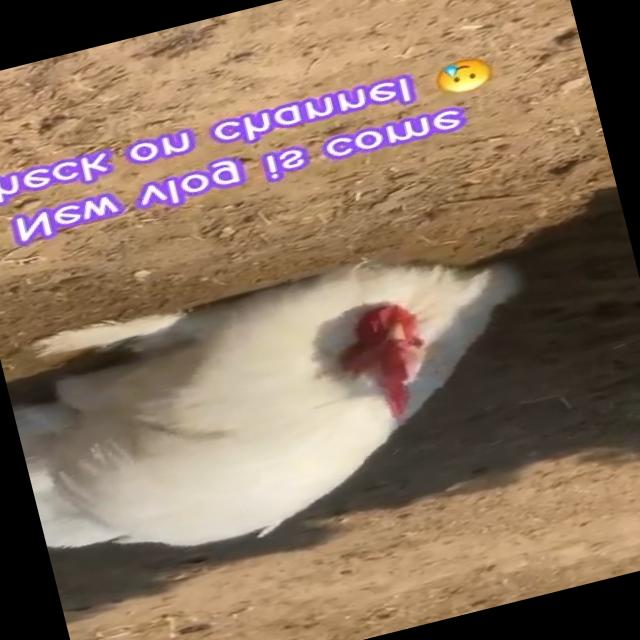stand bath: (0, 225, 553, 588)
